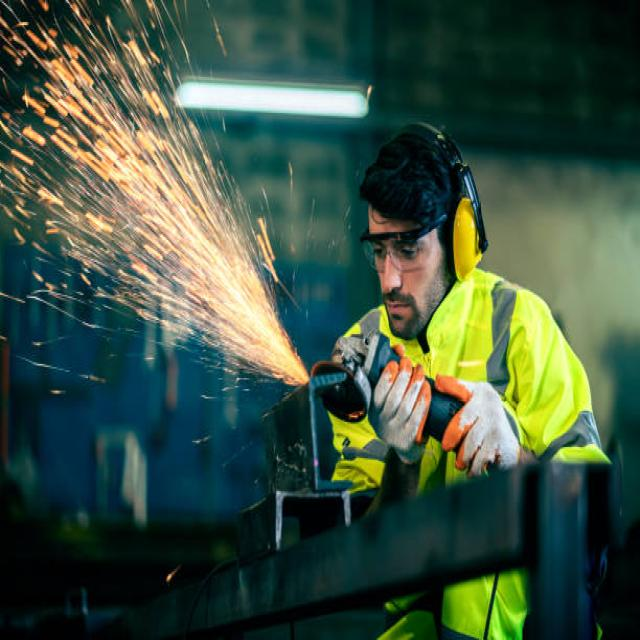Gloves: (435, 366, 532, 484), (367, 342, 434, 459)
Vest: (314, 240, 612, 640)
person: (310, 108, 610, 640)
